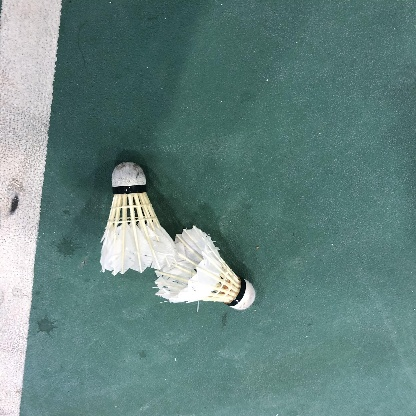ball_single: (155, 225, 255, 310), (100, 162, 175, 275)
